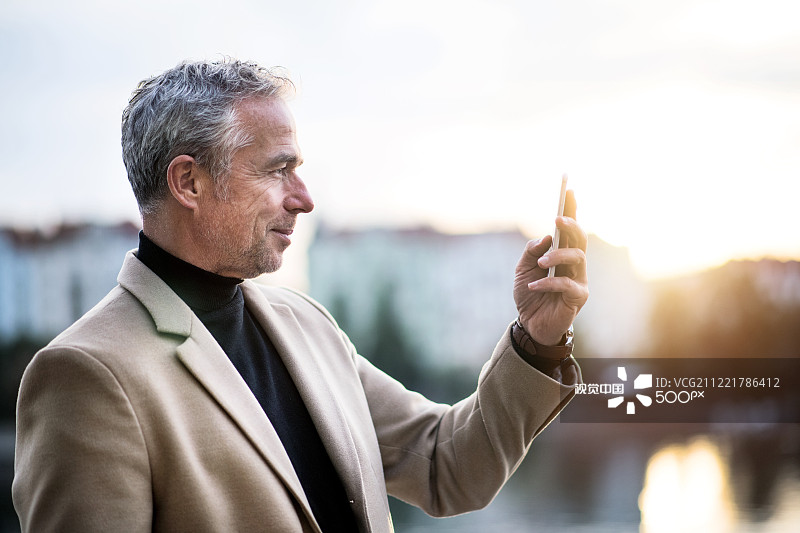taking photos: (495, 158, 608, 358)
